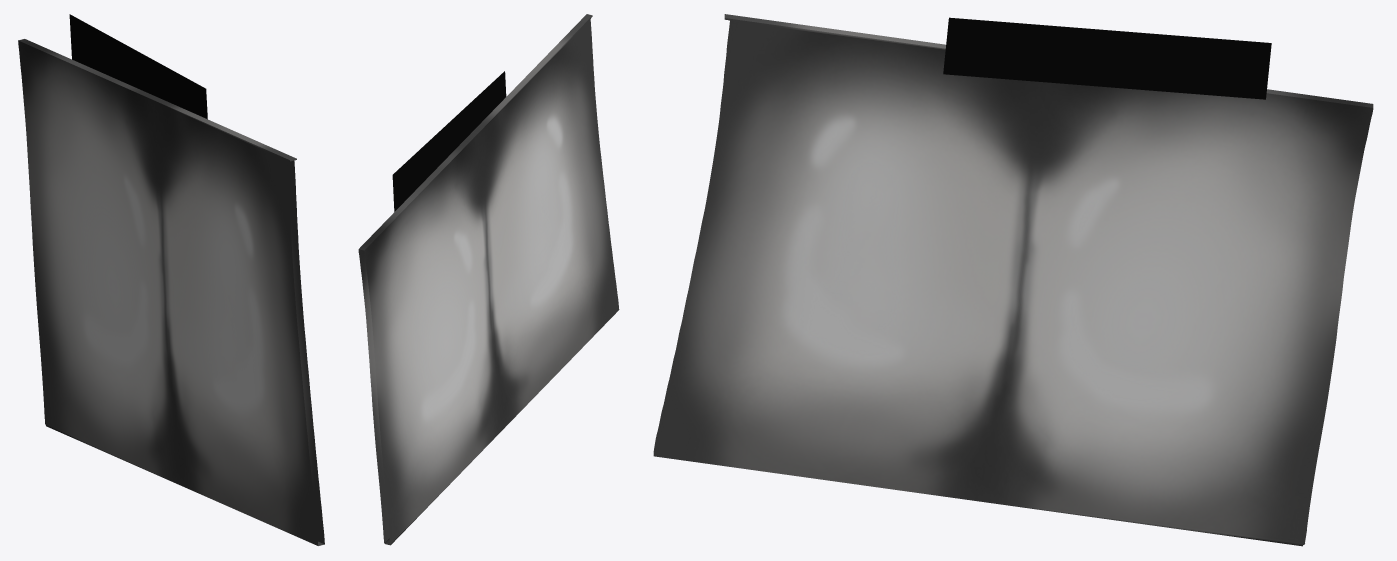
The model's file is ButtScanColado.fbx.
3 renders of one model, left to right at view 1: azimuth 30°, elevation 25°; view 2: azimuth 150°, elevation 25°; view 3: azimuth 270°, elevation 25°, orthographic. The views are drawn at different scales.
Parts seen in each view (by area): view 1: ButtScanColado; view 2: ButtScanColado; view 3: ButtScanColado.
Part boxes in pixels (<box>): ButtScanColado: <box>18,14,324,545</box>; ButtScanColado: <box>358,14,619,545</box>; ButtScanColado: <box>653,14,1373,546</box>.
Bounding box in the file's own units: 0.0127 × 0.3883 × 0.4841.
2 materials, 1 textured.
